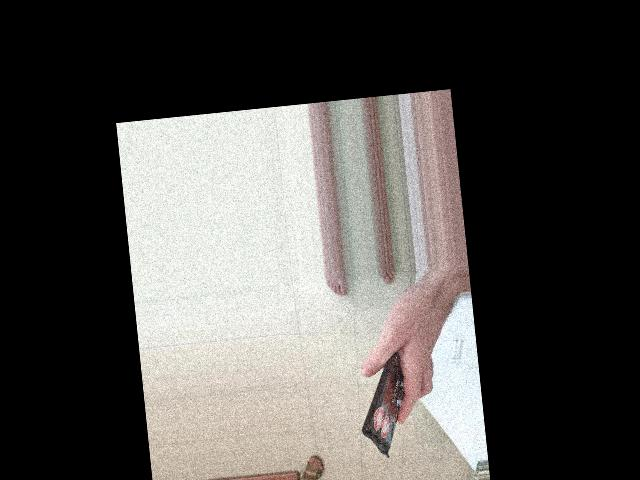chocolate: (356, 342, 423, 459)
